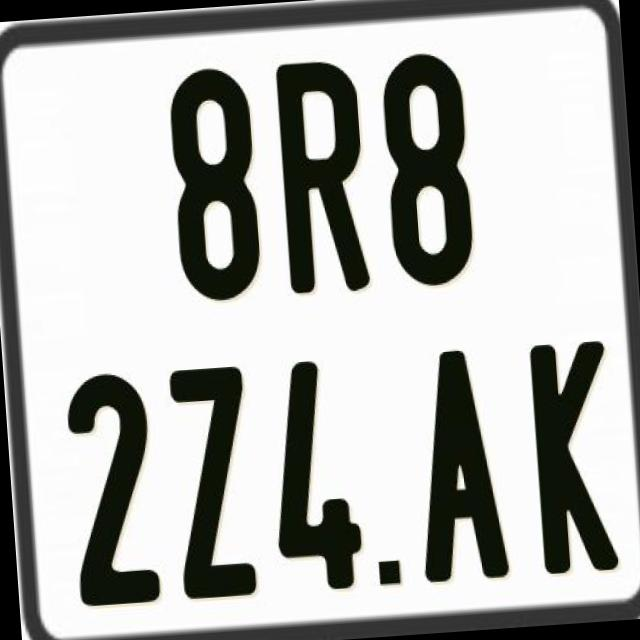2: (63, 370, 163, 606)
4: (263, 357, 362, 599)
8: (378, 51, 474, 296), (165, 65, 261, 304)
A: (409, 348, 512, 590)
K: (528, 338, 620, 572)
R: (274, 59, 370, 295)
Z: (167, 361, 258, 599)
